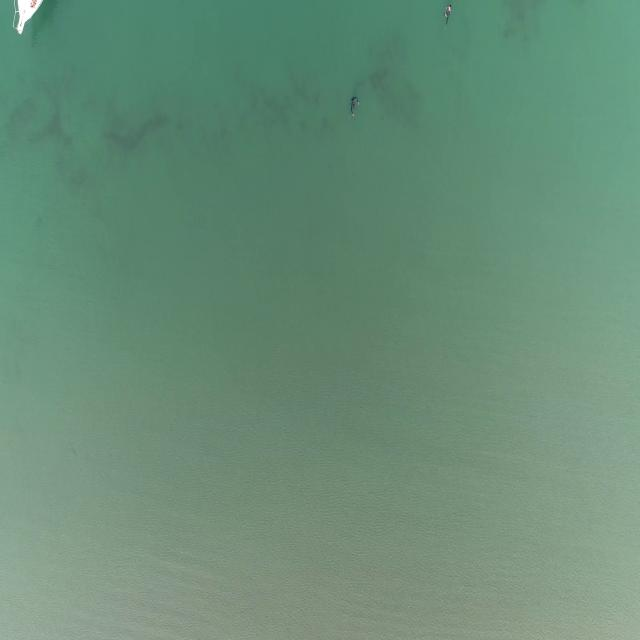person: (348, 95, 361, 118), (442, 5, 454, 25)
